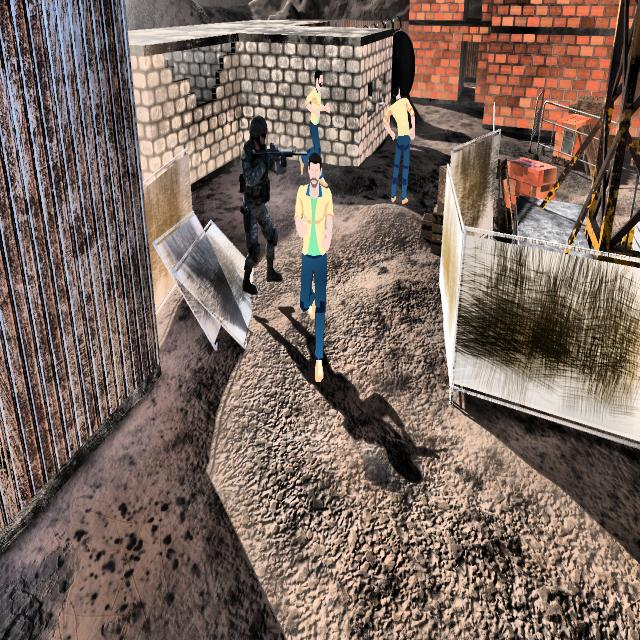bad: (228, 99, 286, 299)
good: (290, 156, 341, 394), (377, 60, 421, 216), (299, 63, 329, 173)
